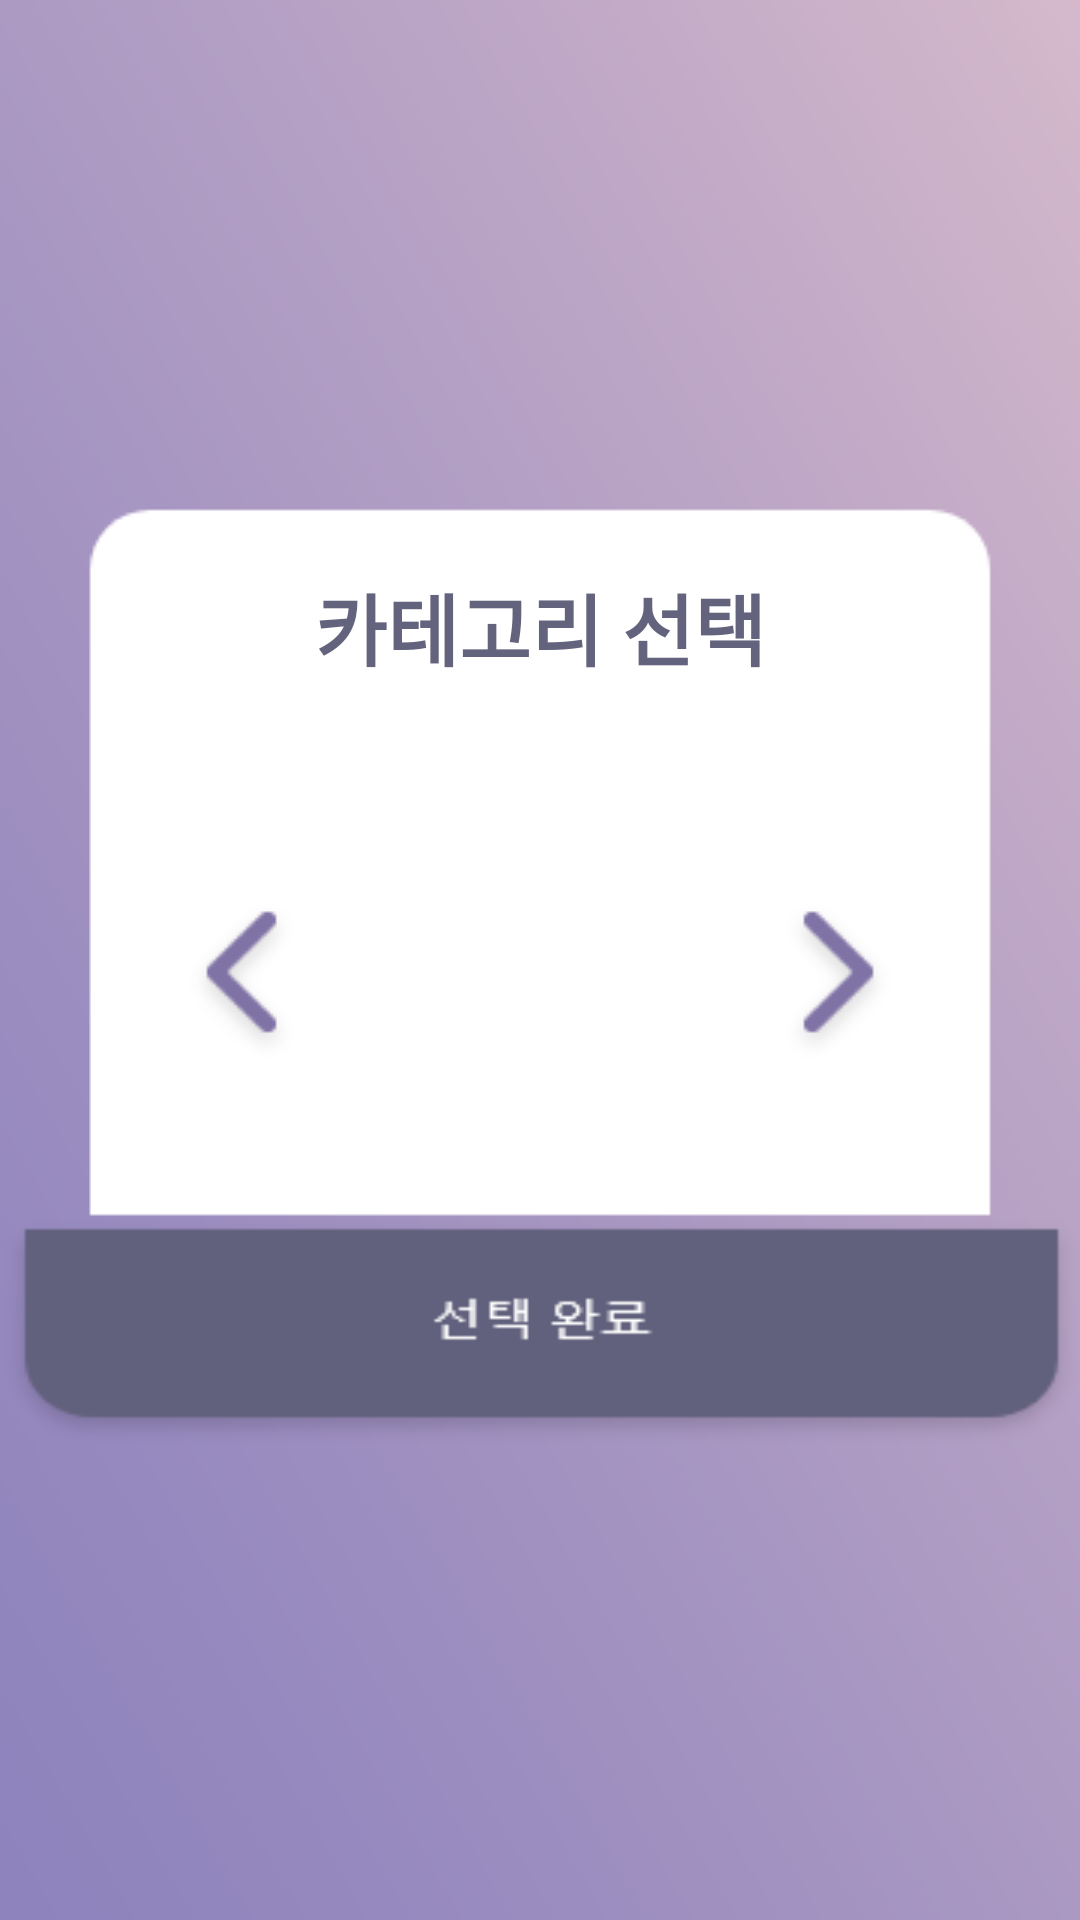

Point at icon controls on the screen. Image size 1080w x 1920h, points as point (x, y).
leftbt: point (241, 972)
rightbt: point (838, 972)
